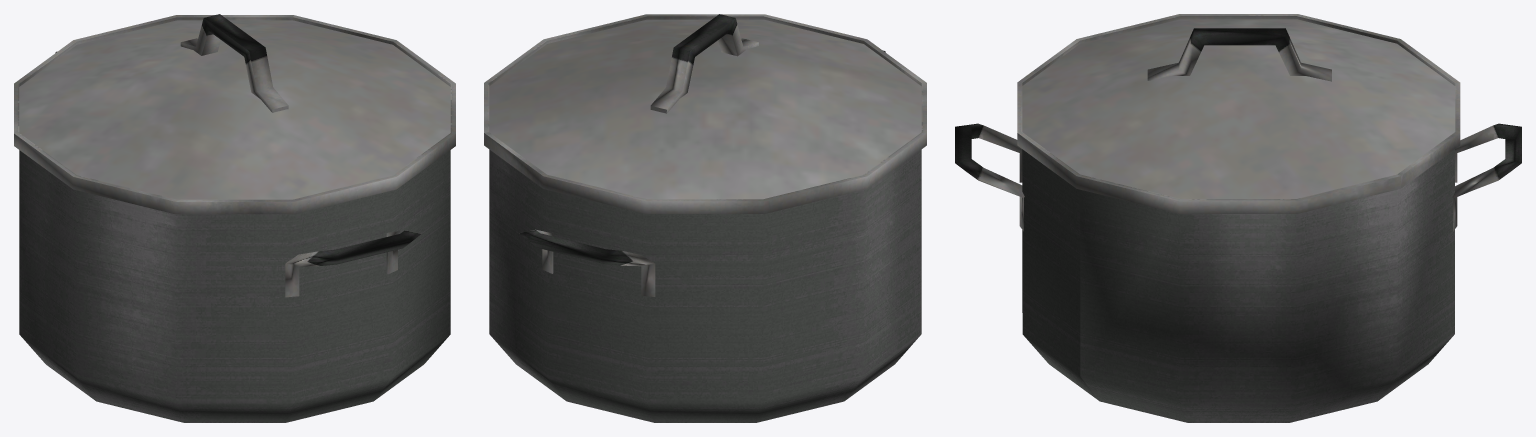
Rendered from Prop_Pot01.glb.
3 views of the same model, side by side, from view 1: azimuth 30°, elevation 25°; view 2: azimuth 150°, elevation 25°; view 3: azimuth 270°, elevation 25° (orthographic).
Visible parts, largest first — view 1: xiutz_pot_01; view 2: xiutz_pot_01; view 3: xiutz_pot_01.
Part boxes in pixels (bbox=[...]): xiutz_pot_01: bbox=[14, 14, 455, 422]; xiutz_pot_01: bbox=[484, 14, 926, 422]; xiutz_pot_01: bbox=[955, 14, 1521, 422].
Bounding box in the file's own units: 0.3512 × 0.2718 × 0.4493.
Materials: 1 (1 with a texture image).
